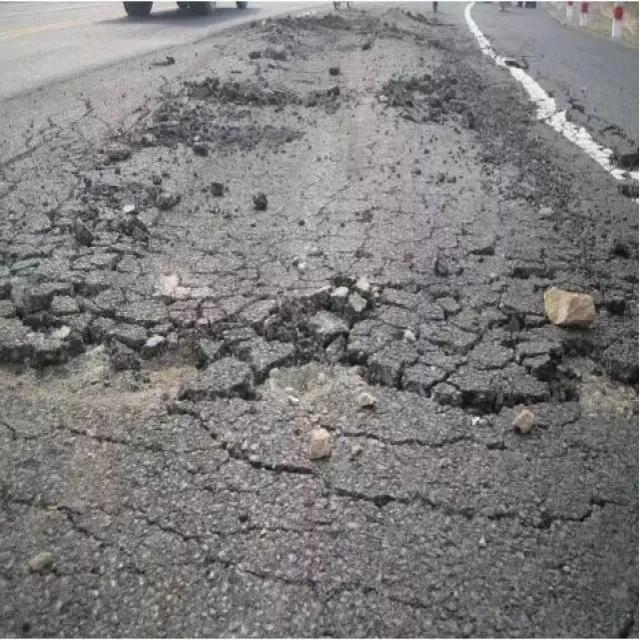Pothole: (2, 321, 202, 420), (248, 341, 390, 424), (535, 334, 639, 432)
